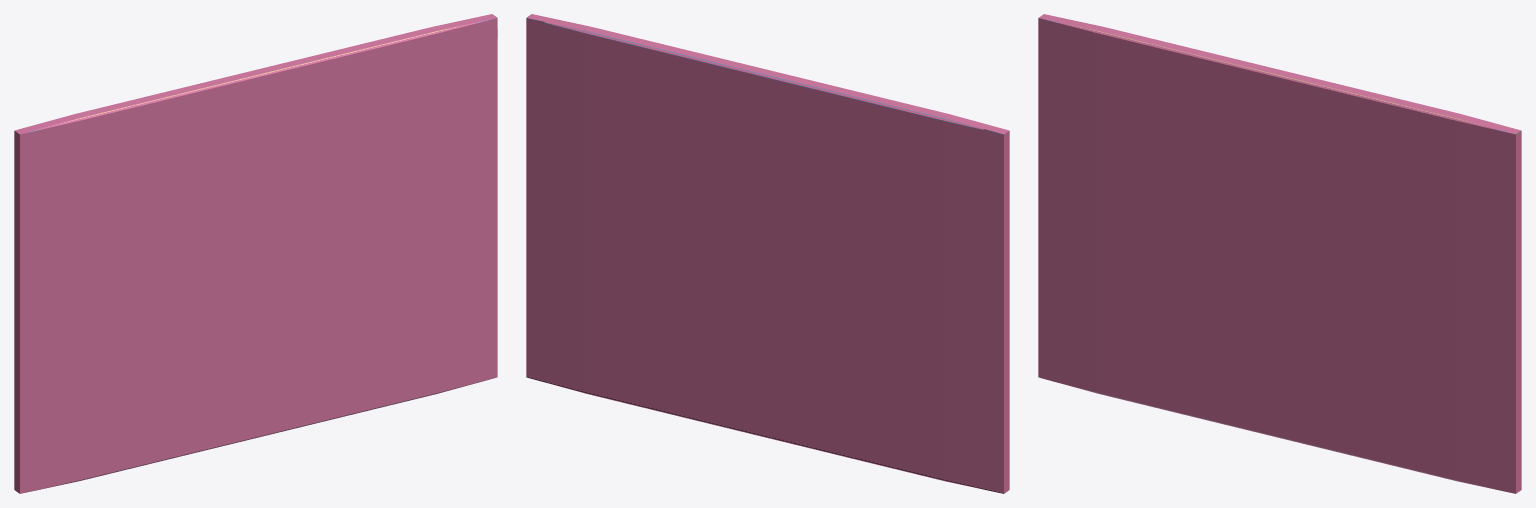
Rendered from PrototypeRoof.gltf.
3 views of the same model, side by side, from view 1: azimuth 30°, elevation 25°; view 2: azimuth 150°, elevation 25°; view 3: azimuth 330°, elevation 25° (orthographic).
Visible parts, largest first — view 1: roof; view 2: roof; view 3: roof.
Part boxes in pixels (<box>): roof: <box>14,14,497,493</box>; roof: <box>526,14,1009,493</box>; roof: <box>1038,14,1521,493</box>.
Size of the model in its own units: 37.88 by 27.5 by 1.
1 material, 1 textured.
